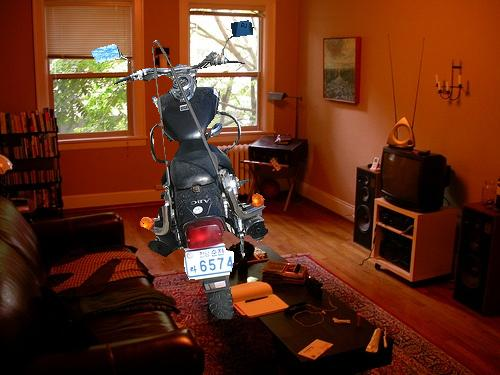tampered: (92, 21, 268, 319)
